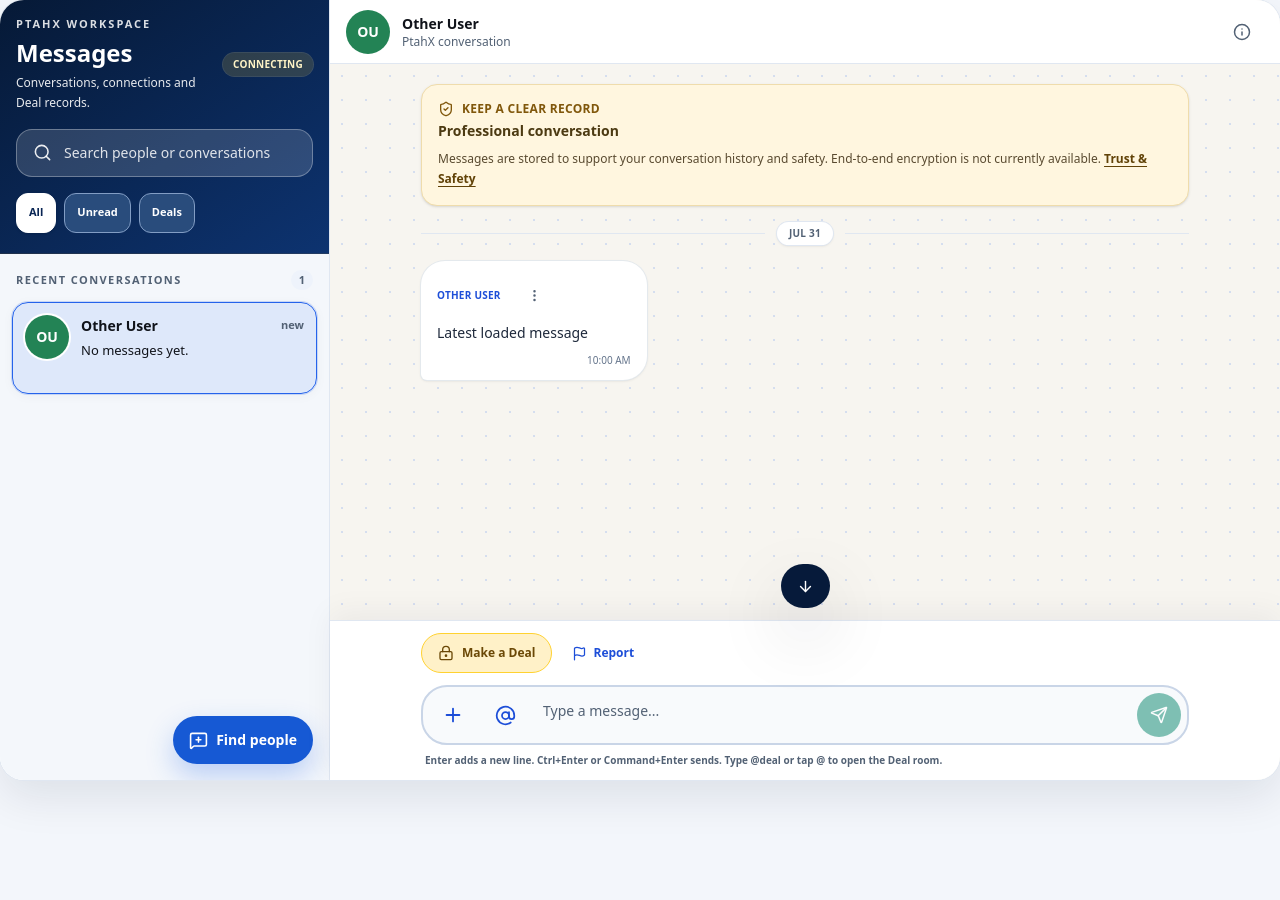
Test: message workspace delivery › optimistic delivery › keeps the sent message visible until the snapshot carries it
Type "Sent from the client" into the text box labelled "message" at point(832, 715), box [535, 693, 1129, 737]
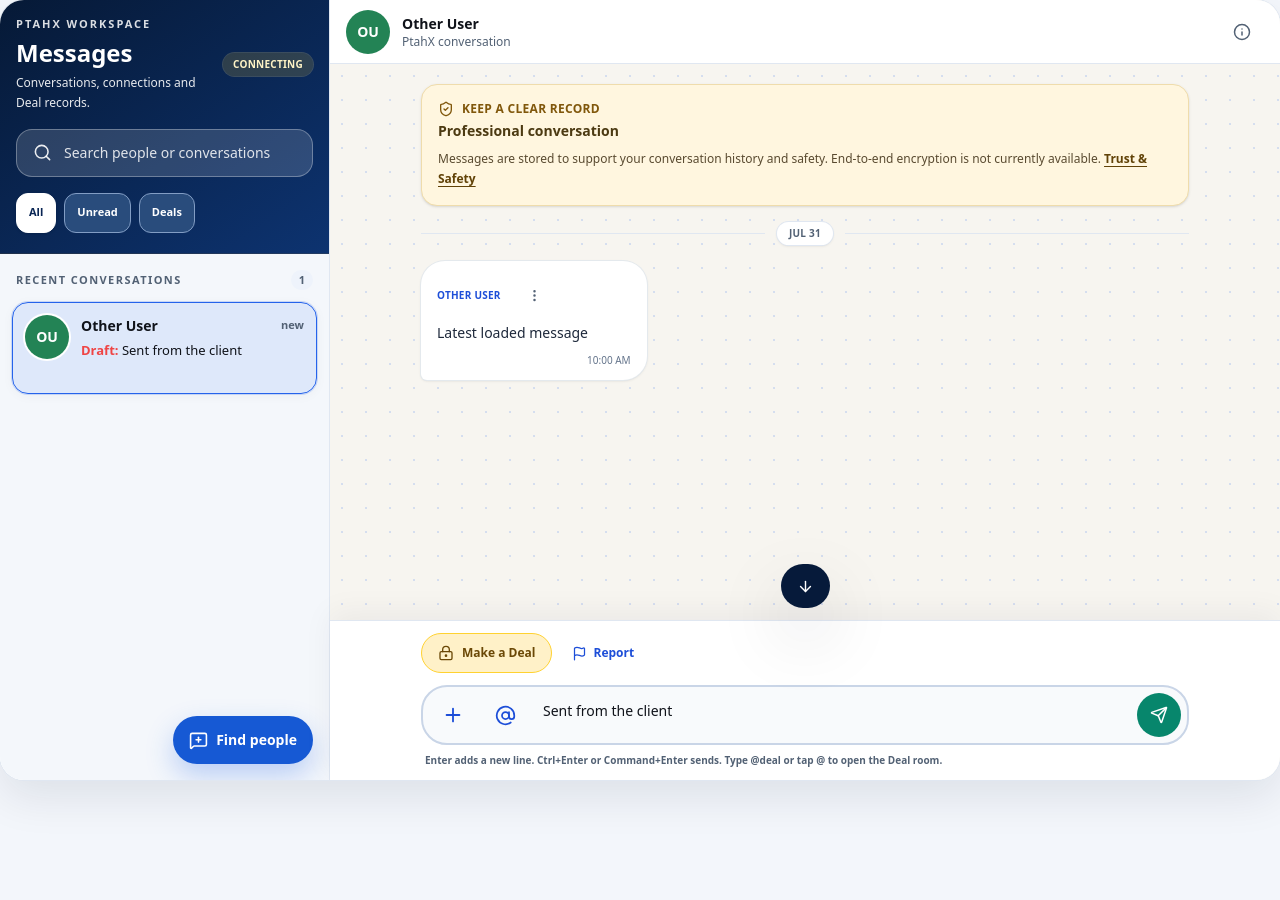
Submit the form named "Message", box [330, 620, 1279, 780]
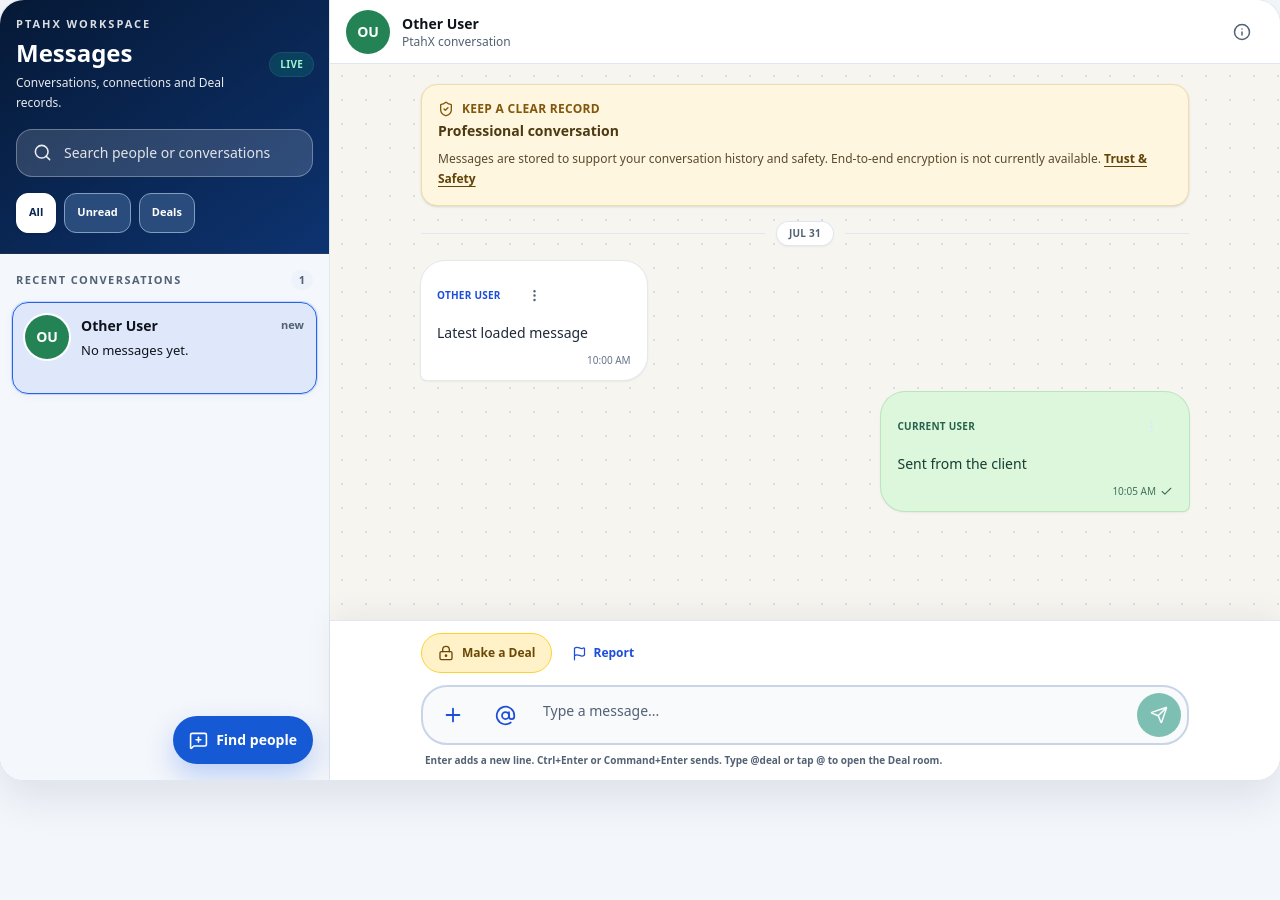
Check: the text "Sent from the client" is shown once, box [898, 454, 1027, 473]
